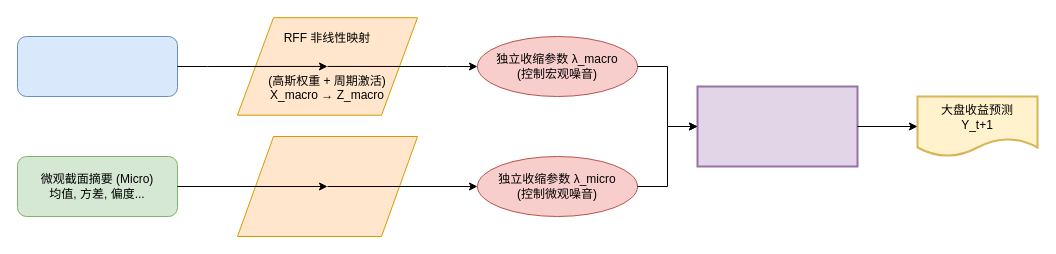
The diagram is 1056 pixels wide and 254 high, and some of its shapes have lost their labels. Here are the shapes that lost their labels. From the top down, the centre of each, then its label:
At point (97, 66): "宏观信息源 (Macro) DP, DY, EP...".
At point (777, 126): "高维分组正则化回归 (Two-Group Ridge)".
At point (327, 186): "RFF 非线性映射 (高斯权重 + 周期激活) X_micro → Z_micro".
